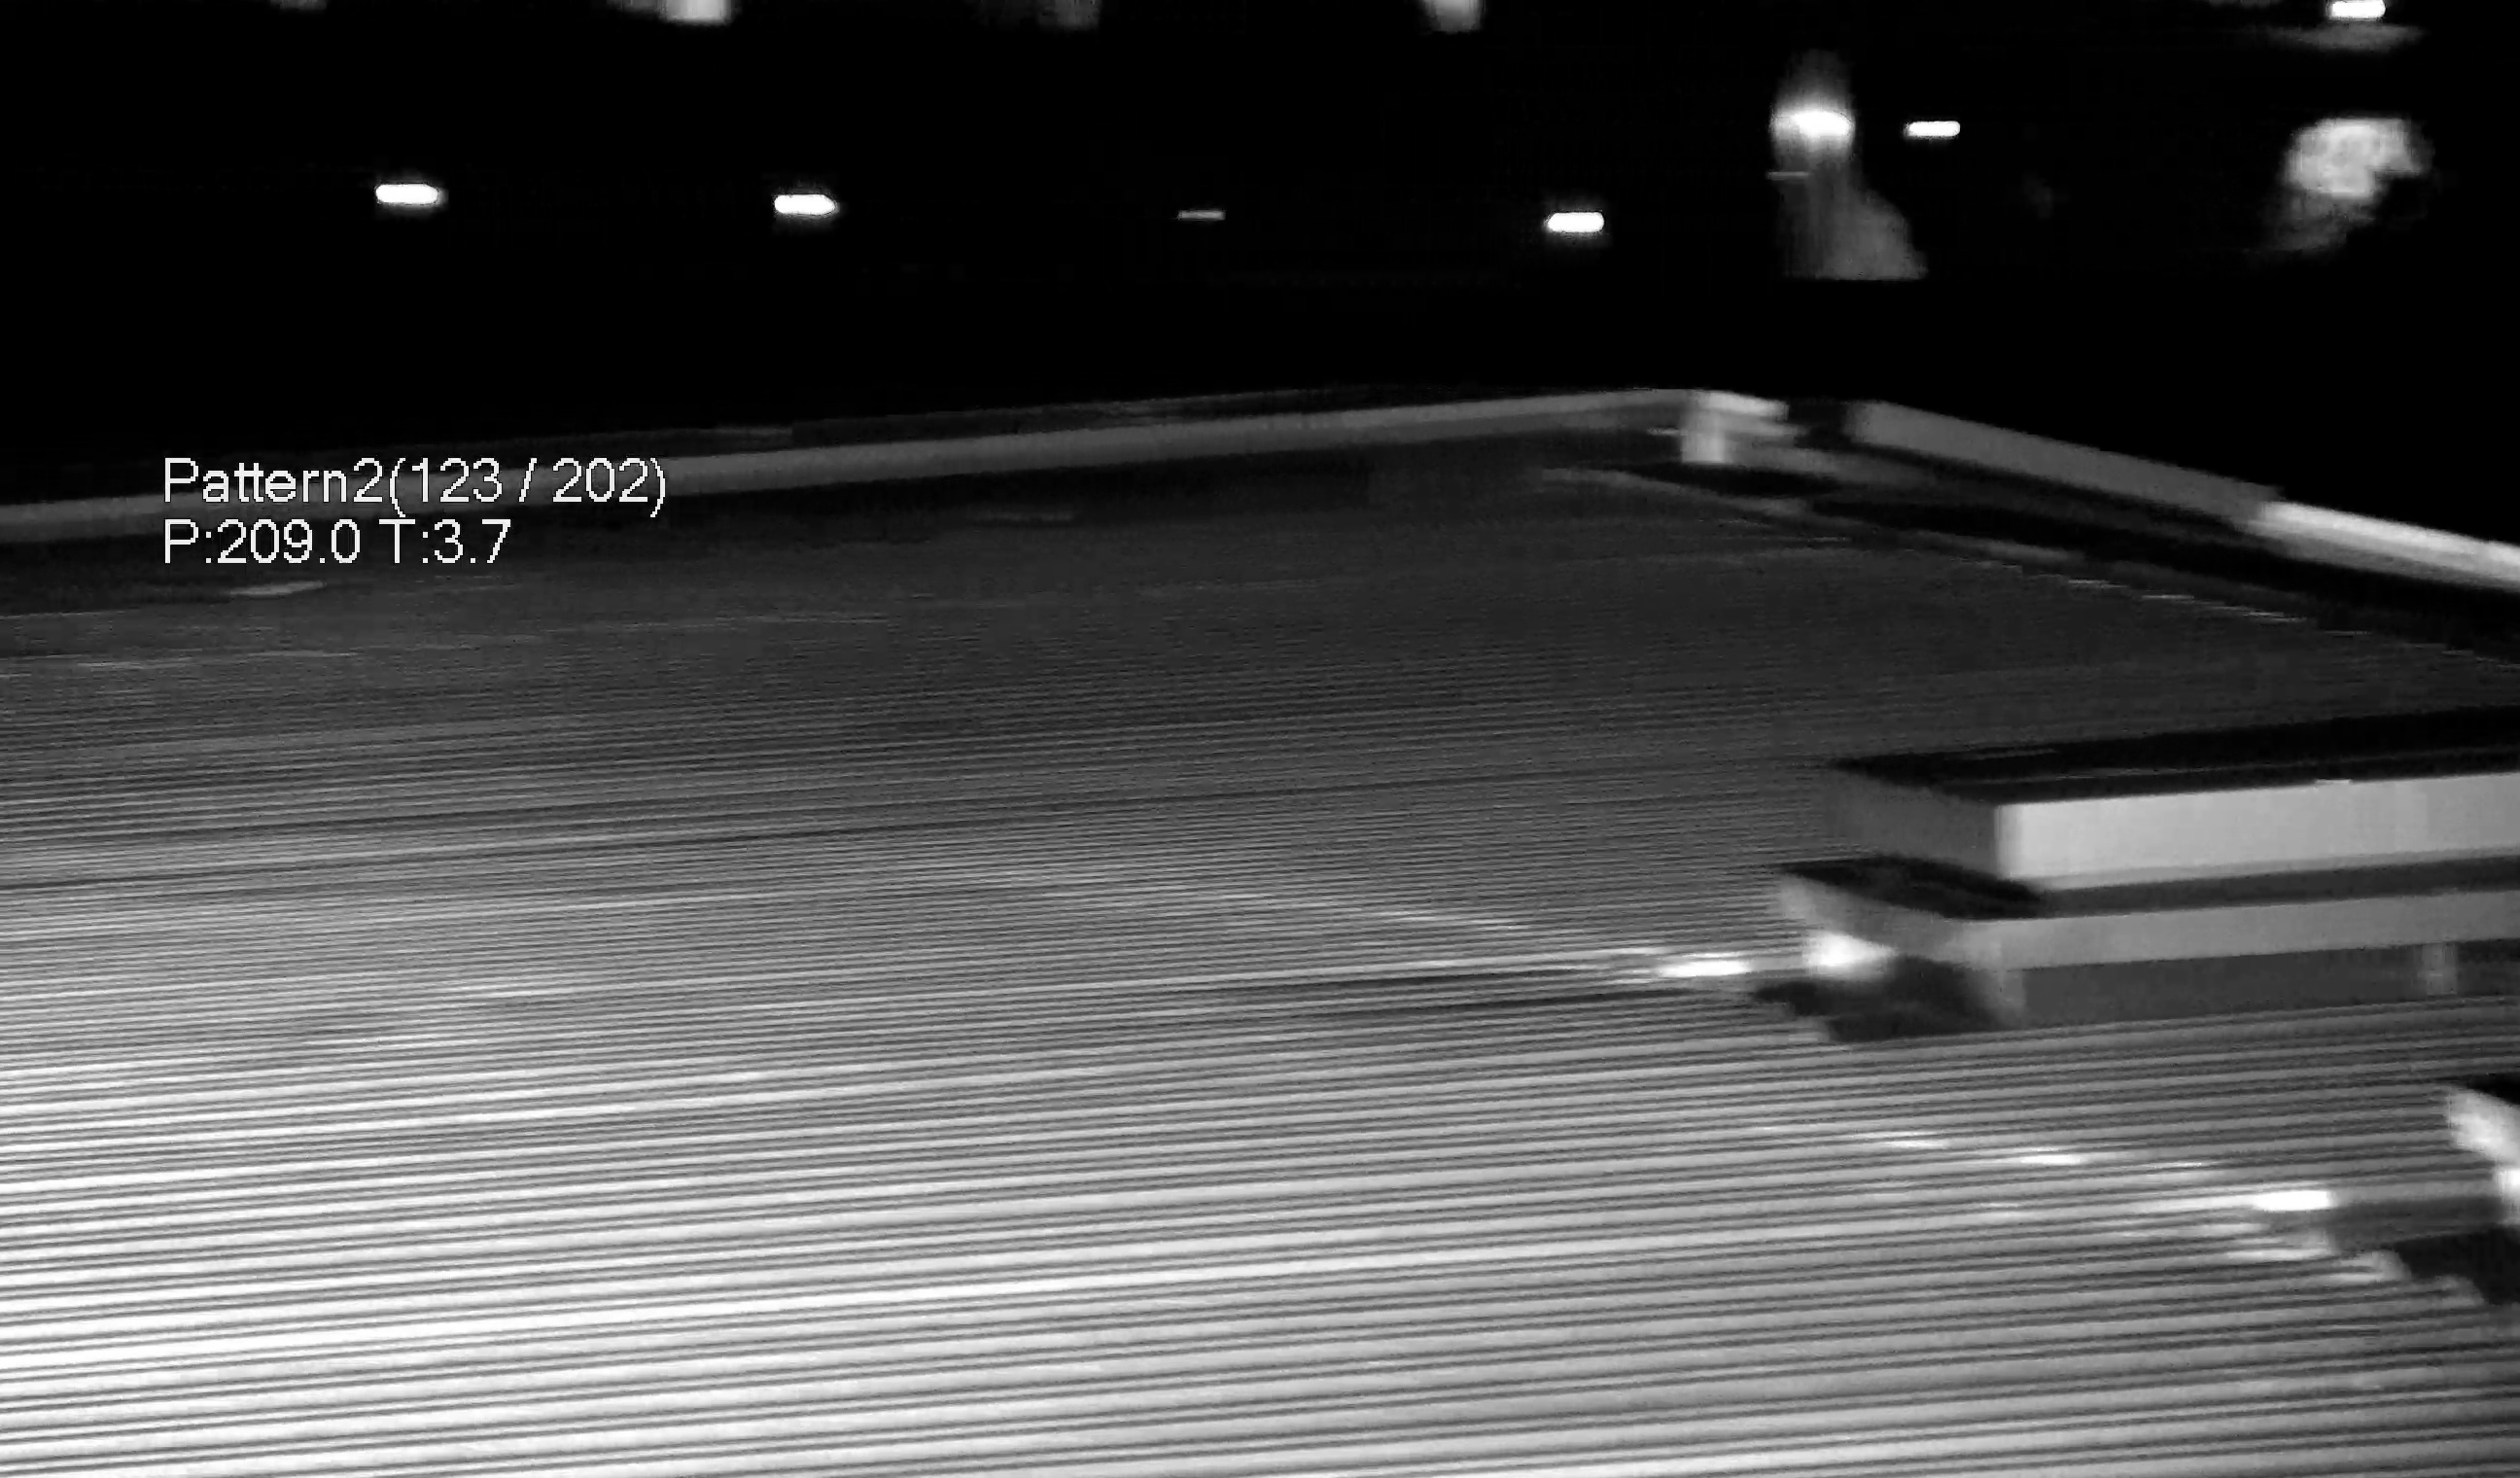Other: (1693, 845, 2068, 1031)
